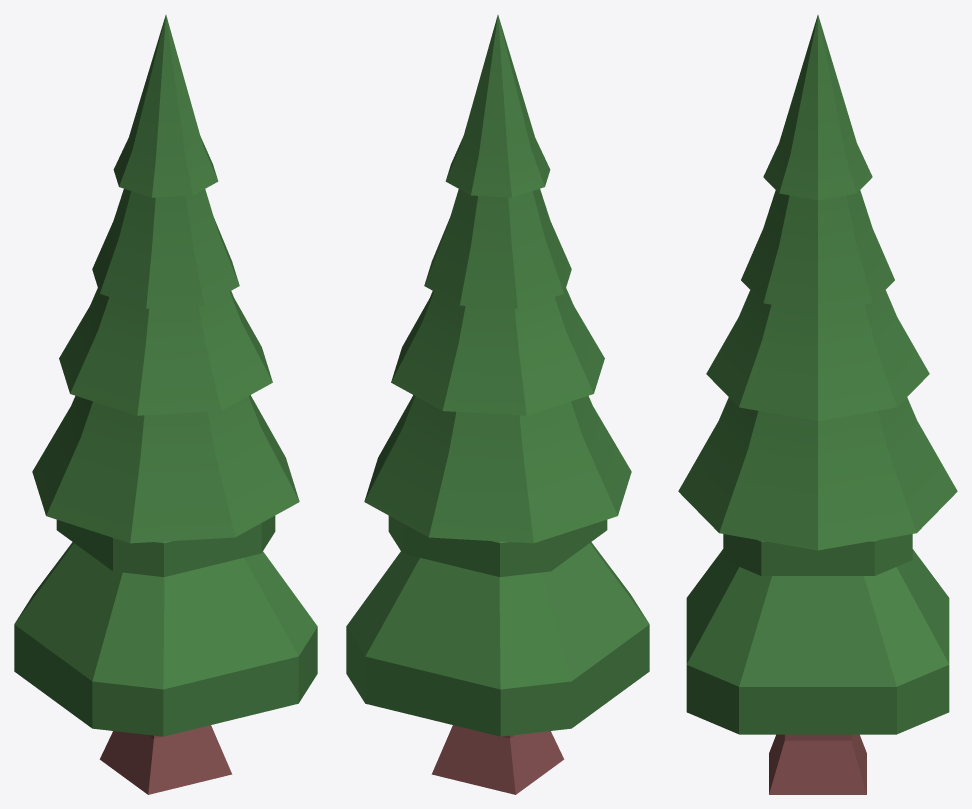
Rendered from tree2.fbx.
The picture shows the model from 3 angles, left to right: view 1: azimuth 30°, elevation 25°; view 2: azimuth 150°, elevation 25°; view 3: azimuth 270°, elevation 25°; orthographic projection.
Parts seen in each view (by area): view 1: polySurface89; view 2: polySurface89; view 3: polySurface89.
Boxes of the visible parts, left/top/right/bottom form: polySurface89: left=14, top=15, right=317, bottom=794; polySurface89: left=346, top=15, right=649, bottom=794; polySurface89: left=678, top=15, right=957, bottom=794.
Bounding box in the file's own units: 53.2 × 160 × 53.2.
